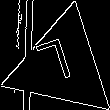L_S: (40, 37, 83, 94)
